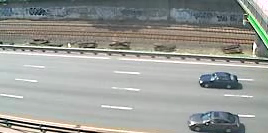car: (185, 108, 244, 133), (195, 69, 244, 92)
